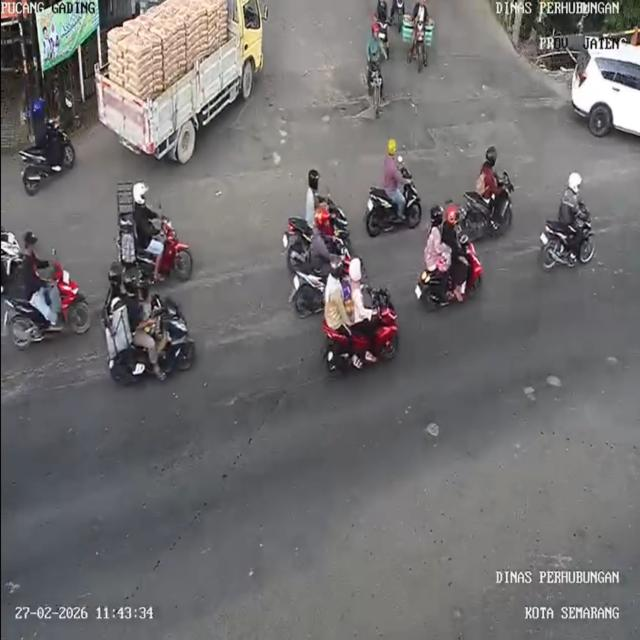motorcycle: (110, 311, 197, 382), (6, 276, 90, 344), (323, 306, 404, 368), (17, 137, 77, 198), (358, 185, 427, 237), (420, 256, 490, 306), (538, 218, 600, 273), (464, 181, 516, 235), (284, 219, 352, 258), (151, 224, 196, 279), (294, 262, 332, 316), (366, 68, 390, 120), (414, 25, 432, 73), (0, 229, 23, 262), (374, 0, 390, 22), (394, 0, 406, 22)
person: (14, 220, 49, 302), (128, 175, 164, 249), (345, 256, 376, 326), (422, 205, 449, 275), (441, 204, 468, 274), (559, 170, 589, 232), (472, 142, 504, 199), (326, 256, 348, 330), (308, 207, 333, 272), (380, 141, 406, 197), (30, 95, 56, 148), (365, 23, 388, 77), (105, 258, 125, 319), (301, 168, 324, 221), (124, 264, 144, 319), (142, 286, 161, 334), (412, 0, 435, 26)
rider_region: (103, 264, 198, 385), (316, 257, 411, 368), (7, 232, 92, 348), (416, 200, 485, 311), (118, 180, 194, 278), (292, 210, 358, 316), (283, 167, 356, 262), (539, 169, 598, 272), (364, 139, 424, 235), (19, 95, 76, 196), (464, 145, 514, 237)
